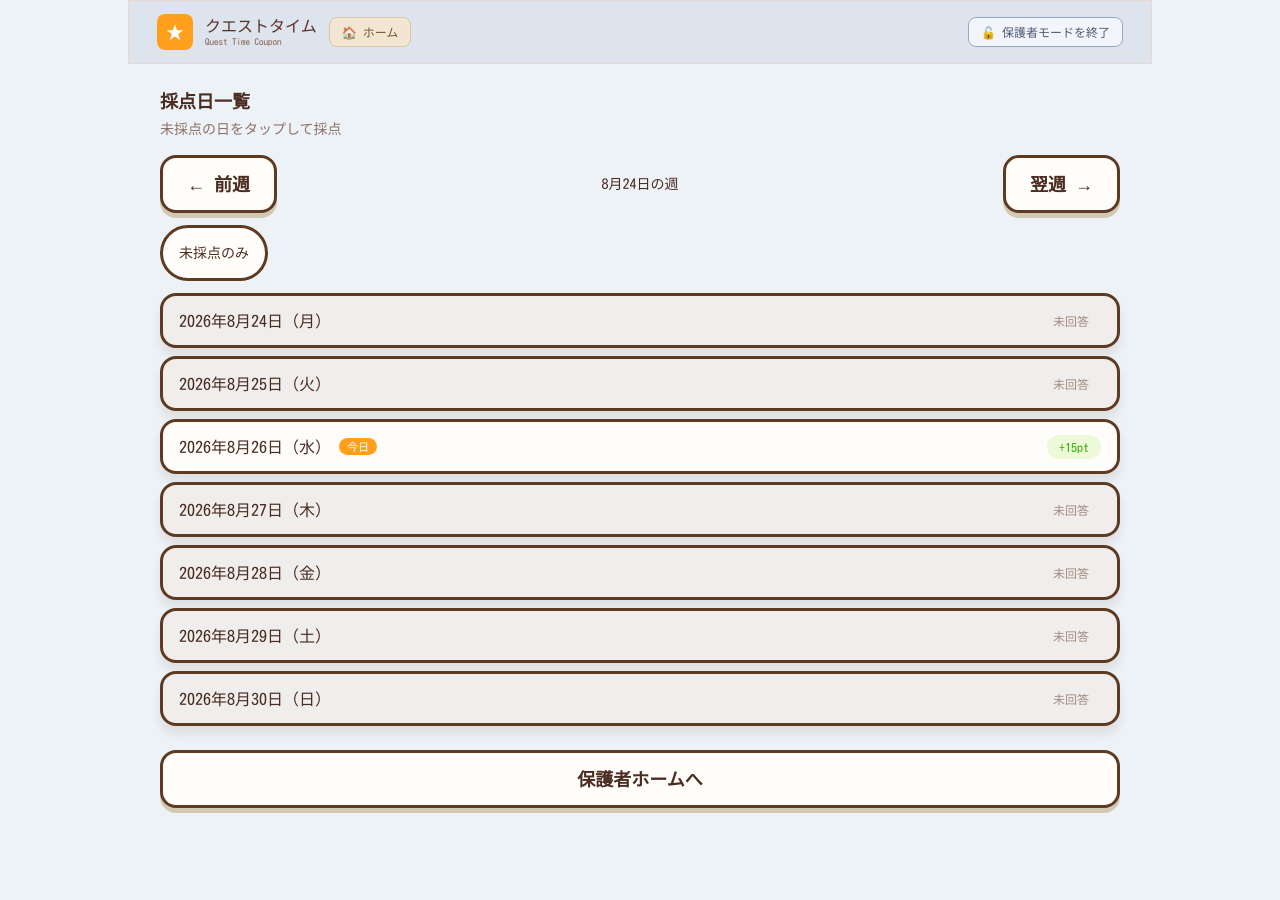
Scenario: GradeListPage Figma 寄せ (#76) › 未採点がない週でフィルタ ON のとき空状態を表示する
What coordinates should you click on to do the following:
click the button with test id "ungraded-only-chip"
I would click on:
 (214, 253)
Its box is [160,225,268,281].
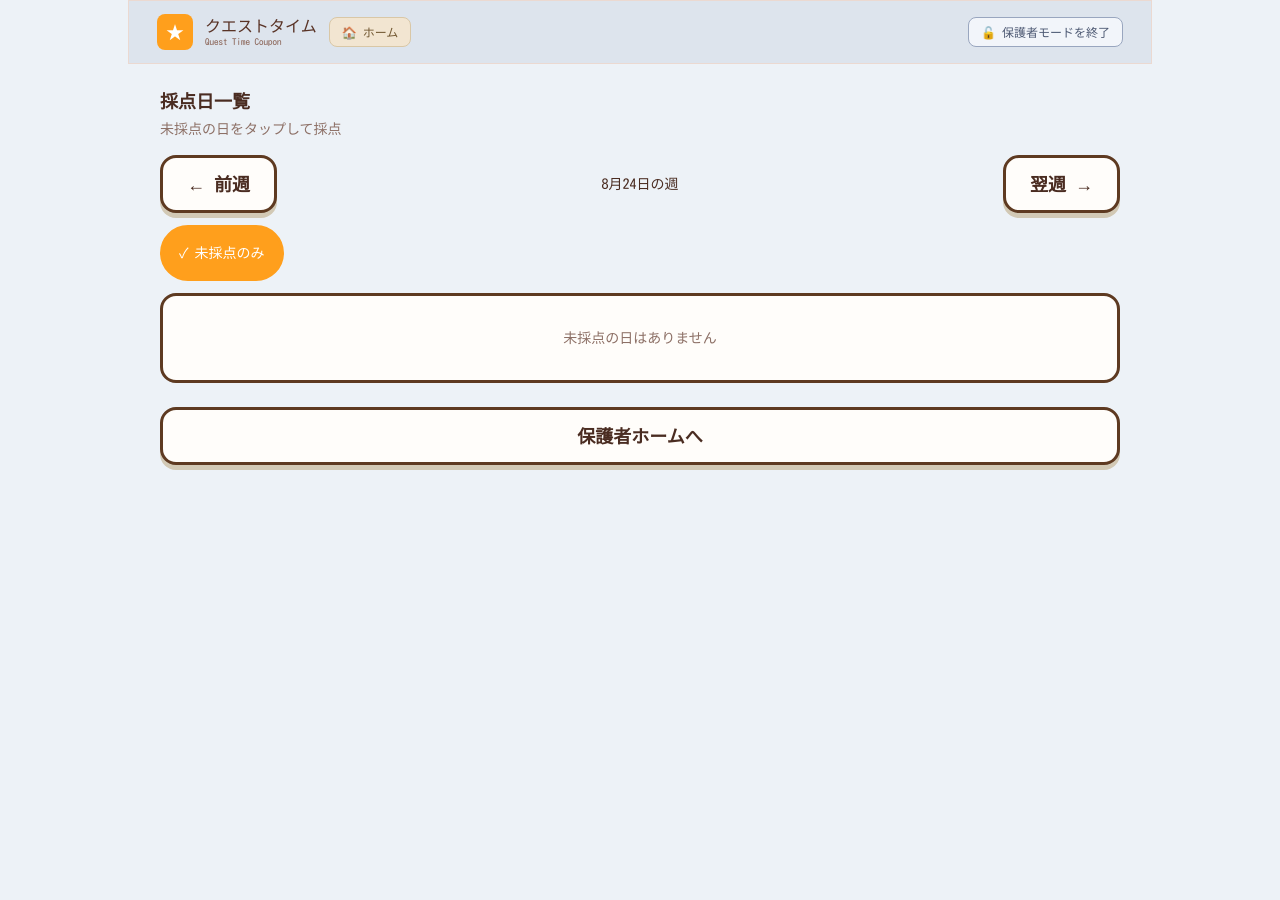
Now the text with test id "ungraded-empty" reads "未採点の日はありません", box [563,331,717,345]
Now the button "2026年8月26日（水）" is gone
